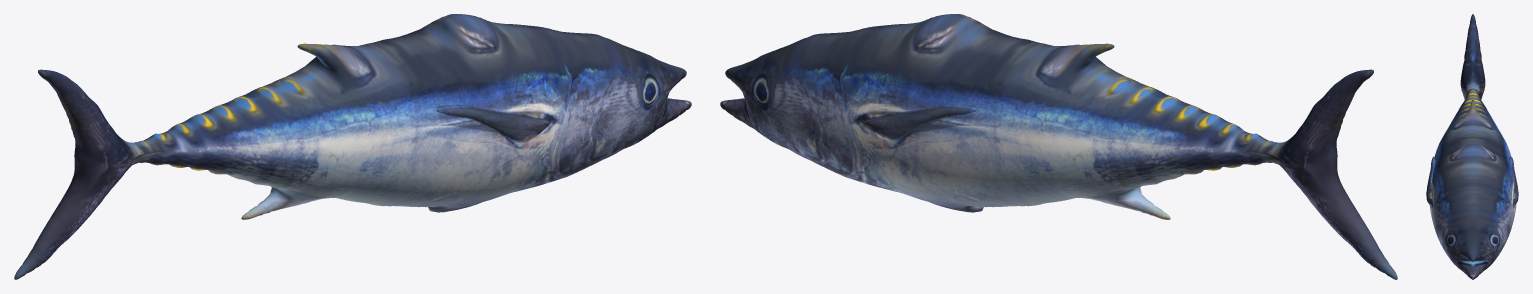
Rendered from bluefin-tuna.glb.
The picture shows the model from 3 angles, left to right: view 1: azimuth 30°, elevation 25°; view 2: azimuth 150°, elevation 25°; view 3: azimuth 270°, elevation 25°; orthographic projection. The views are drawn at different scales.
Parts seen in each view (by area): view 1: mm_frame (16); view 2: mm_frame (16); view 3: mm_frame (16).
Boxes of the visible parts, bbox=[...] form: mm_frame (16): bbox=[14, 14, 691, 279]; mm_frame (16): bbox=[720, 14, 1397, 279]; mm_frame (16): bbox=[1426, 14, 1518, 279].
Size of the model in its own units: 8.68 by 2.92 by 1.98.
1 material, 1 textured.
